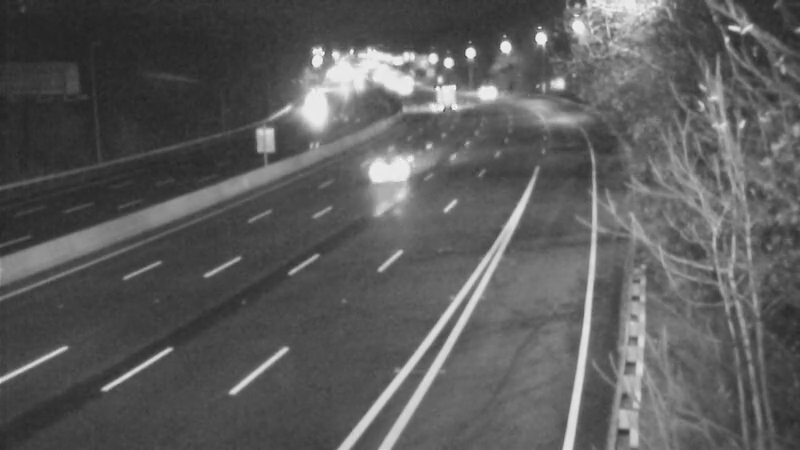vehicle: (346, 129, 426, 209), (419, 63, 469, 113), (457, 70, 507, 120), (291, 81, 341, 131)
